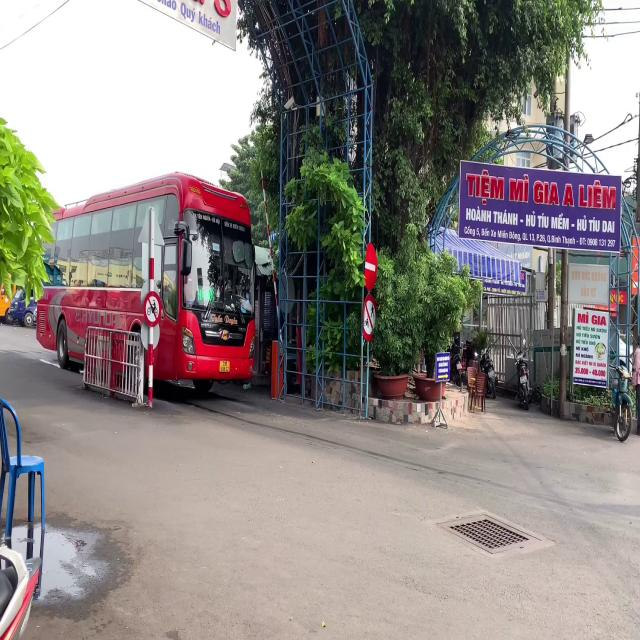bien_vang: (219, 359, 230, 373)
